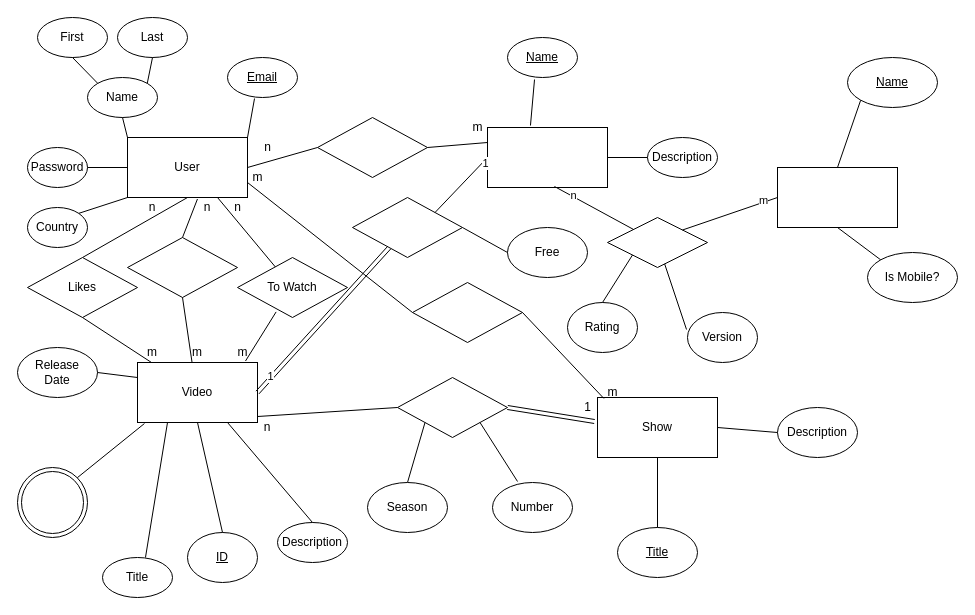
Image size: 975x615. Some labels were removed from this diagram. Here are the shapes that lost their labels. From the top down, the centre of each, then its label:
At point (372, 147): "Subscription".
At point (547, 157): "App".
At point (837, 197): "Platform".
At point (407, 227): "Host".
At point (657, 242): "App-Platform".
At point (182, 267): "Watched".
At point (467, 312): "ShowList".
At point (452, 407): "Episode".
At point (52, 502): "Tags".
